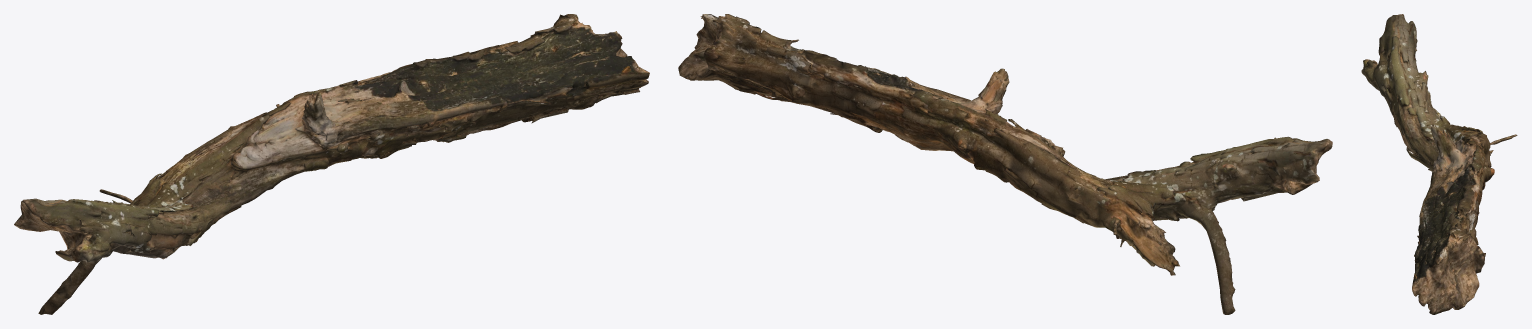
Rendered from dead_tree_trunk_02.glb.
The picture shows the model from 3 angles, left to right: view 1: azimuth 30°, elevation 25°; view 2: azimuth 150°, elevation 25°; view 3: azimuth 270°, elevation 25°; orthographic projection. The views are drawn at different scales.
Parts seen in each view (by area): view 1: dead_tree_trunk_02; view 2: dead_tree_trunk_02; view 3: dead_tree_trunk_02.
Boxes of the visible parts, x1=… form: dead_tree_trunk_02: x1=14, y1=14, x2=649, y2=314; dead_tree_trunk_02: x1=678, y1=14, x2=1332, y2=314; dead_tree_trunk_02: x1=1361, y1=14, x2=1517, y2=314.
Size of the model in its own units: 4.05 by 1.05 by 1.05.
1 material, 1 textured.
